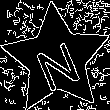N_NW: (29, 28, 84, 90)
